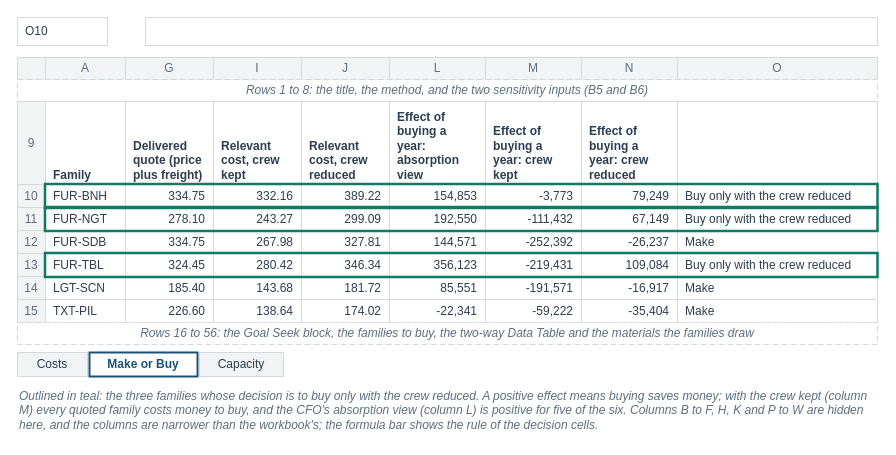
This 896x455 diagram has some shape labels left out. The centre of each missing label's shape, as x and y in pixels:
=IF(M10>0,"Buy",IF(N10>0,"Buy only with the crew reduced","Make")): (511,31)
Decision: (777,142)
fx: (126,31)
